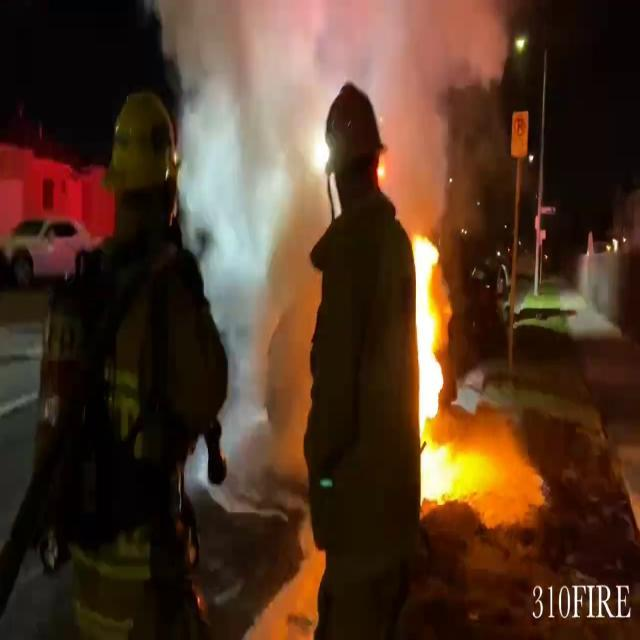Fire: (408, 231, 448, 442)
Smoke: (160, 0, 510, 234)
